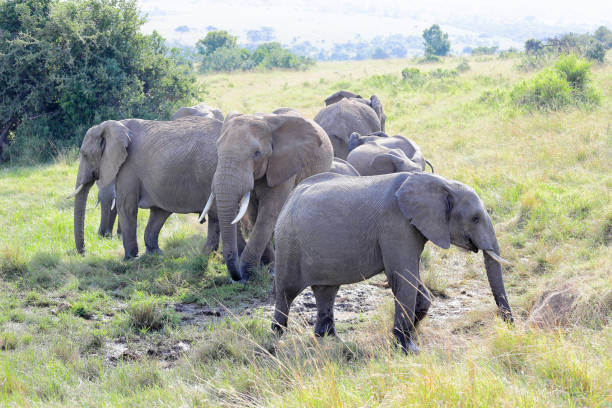africanelephant: (399, 171, 543, 280)
